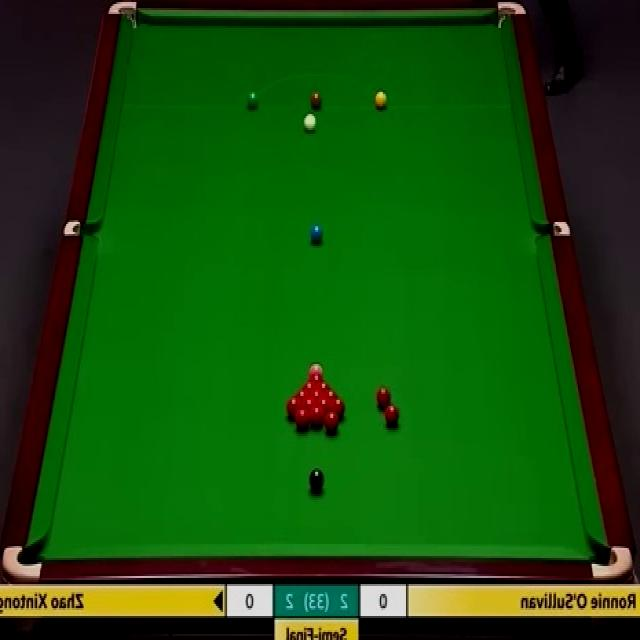black-ball: (309, 466, 325, 493)
blue-ball: (309, 224, 322, 247)
brown-ball: (306, 90, 318, 107)
green-ball: (247, 90, 258, 110)
pink-ball: (308, 359, 324, 376)
red-ball: (382, 404, 401, 430), (324, 412, 340, 435), (309, 405, 324, 429), (285, 397, 302, 417), (293, 410, 309, 431), (375, 384, 389, 407), (330, 397, 345, 418), (302, 398, 315, 416), (316, 397, 331, 412), (300, 382, 318, 392), (293, 389, 309, 400), (308, 372, 325, 382), (308, 390, 324, 400), (317, 382, 333, 391), (324, 390, 337, 401)
white-ball: (303, 110, 318, 134)
yellow-ball: (373, 89, 388, 110)
